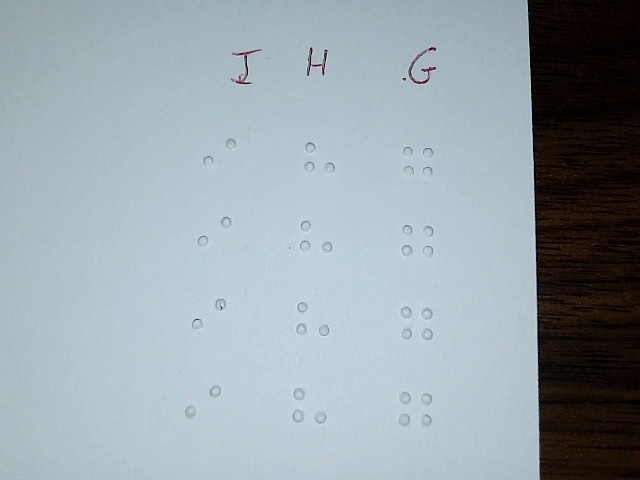G: (401, 135, 438, 196), (397, 383, 434, 444), (399, 216, 436, 277), (399, 296, 436, 357)
H: (301, 130, 338, 191), (298, 213, 335, 274), (295, 291, 332, 352), (291, 379, 328, 440)
I: (184, 374, 223, 437), (202, 128, 239, 189), (196, 207, 233, 268), (190, 288, 227, 349)
